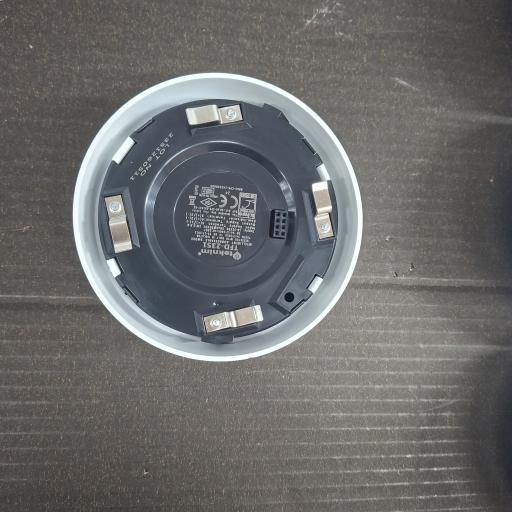yaysiz: (193, 299, 264, 342), (100, 186, 142, 258), (301, 182, 337, 248), (184, 102, 244, 128)
